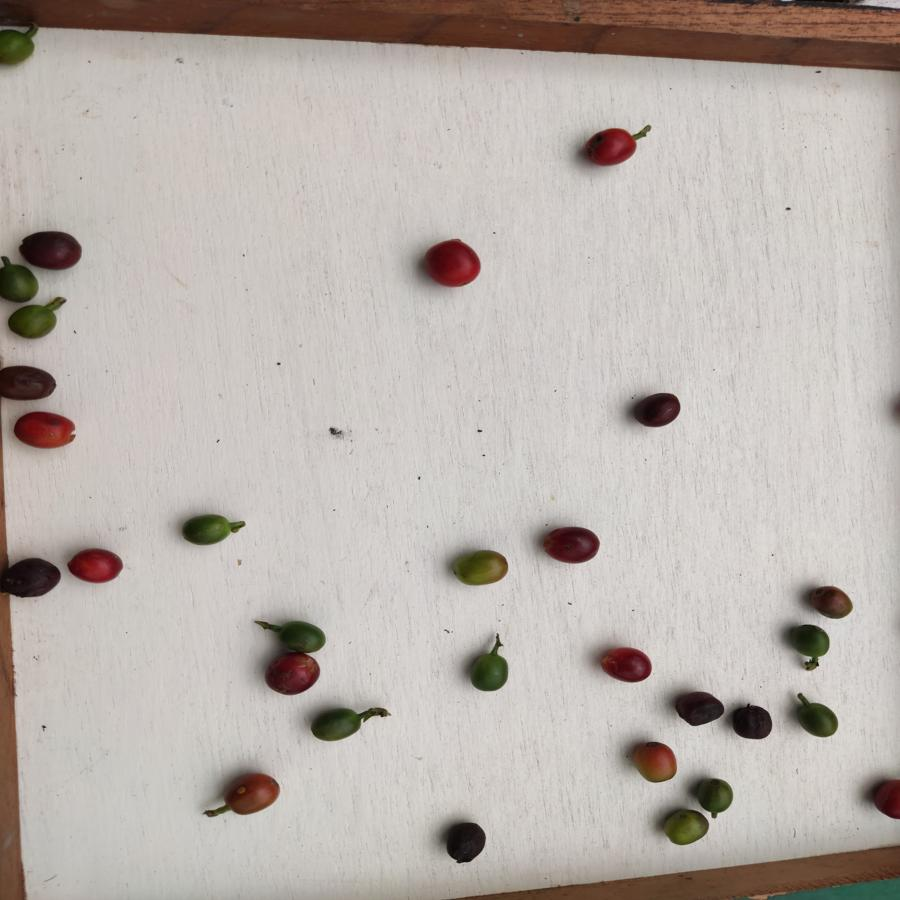Inmaduro: (177, 512, 239, 550), (791, 696, 840, 741), (10, 300, 60, 339), (273, 618, 331, 651), (464, 653, 515, 690), (788, 619, 831, 662), (310, 710, 364, 744), (696, 777, 737, 814)
Maduro: (423, 238, 482, 291), (7, 408, 80, 448), (66, 545, 130, 585), (583, 123, 641, 165)
Pinton: (223, 772, 283, 820), (450, 548, 513, 589), (631, 740, 680, 782), (659, 808, 708, 847)
Sobremaduro: (261, 651, 319, 698), (24, 229, 85, 273), (541, 524, 600, 569), (629, 392, 691, 432), (1, 363, 57, 405), (1, 559, 60, 598), (597, 646, 650, 686), (672, 692, 725, 732), (438, 822, 489, 863), (728, 702, 780, 741)
